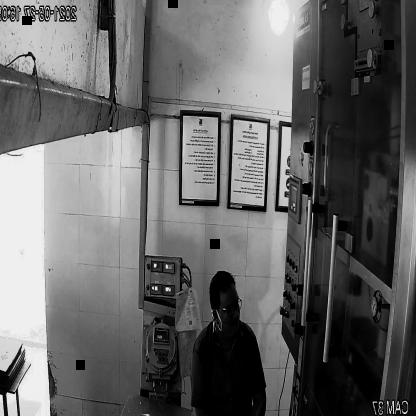goggles: (210, 296, 244, 318)
